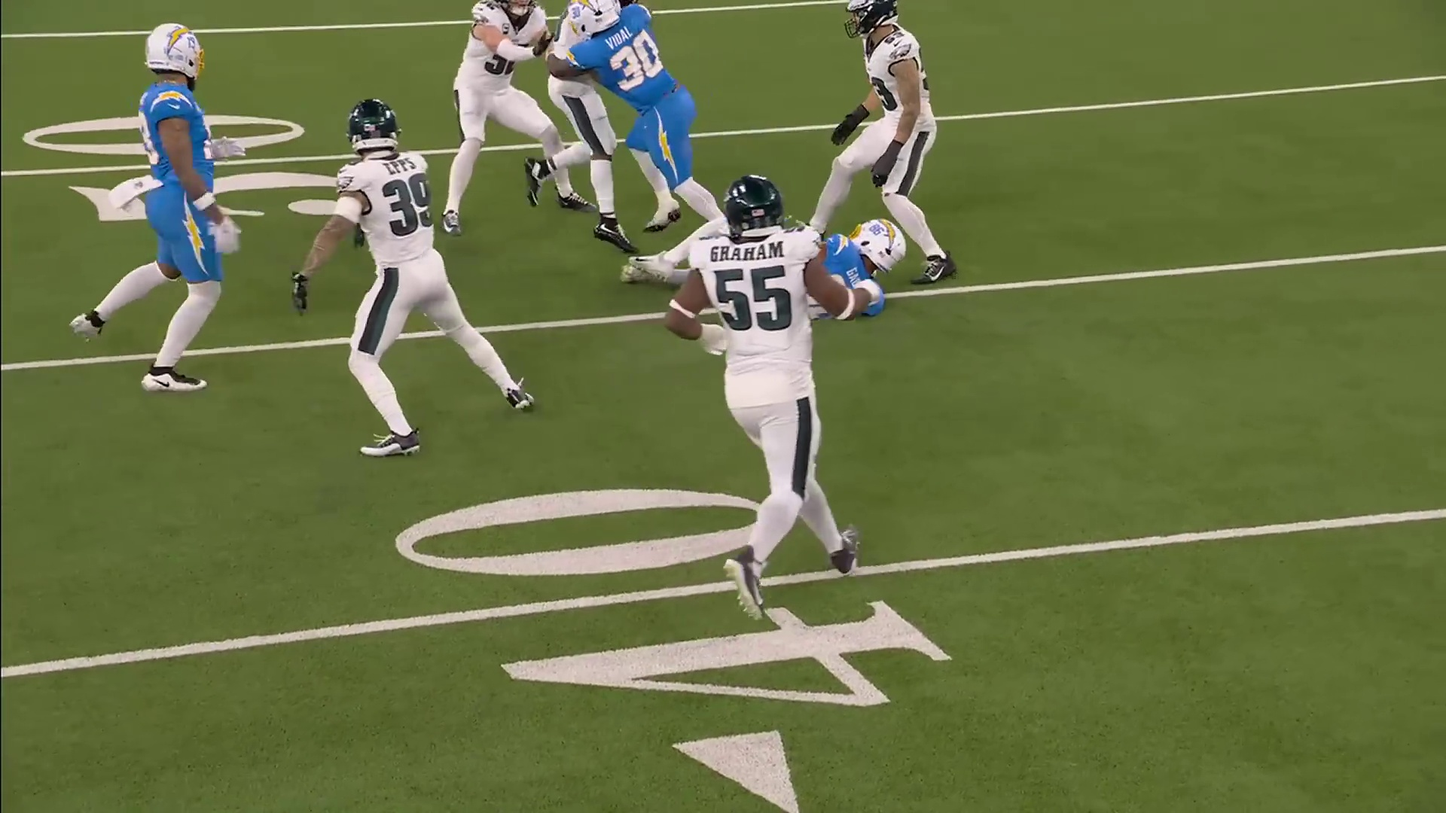player: (684, 174, 861, 598), (322, 95, 472, 452), (132, 24, 233, 397), (578, 0, 707, 224), (836, 0, 950, 233), (460, 0, 578, 224), (661, 212, 905, 308), (548, 0, 618, 218)
